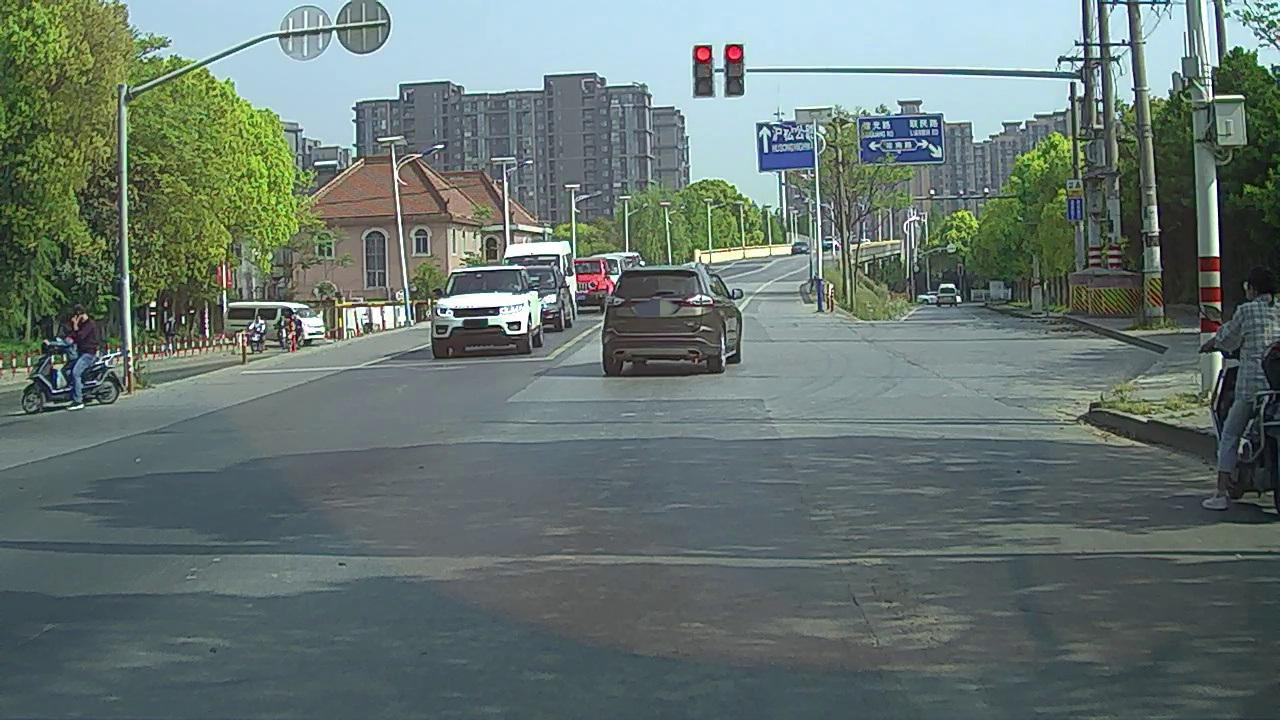traffic_light: (695, 46, 713, 98), (727, 44, 744, 97)
